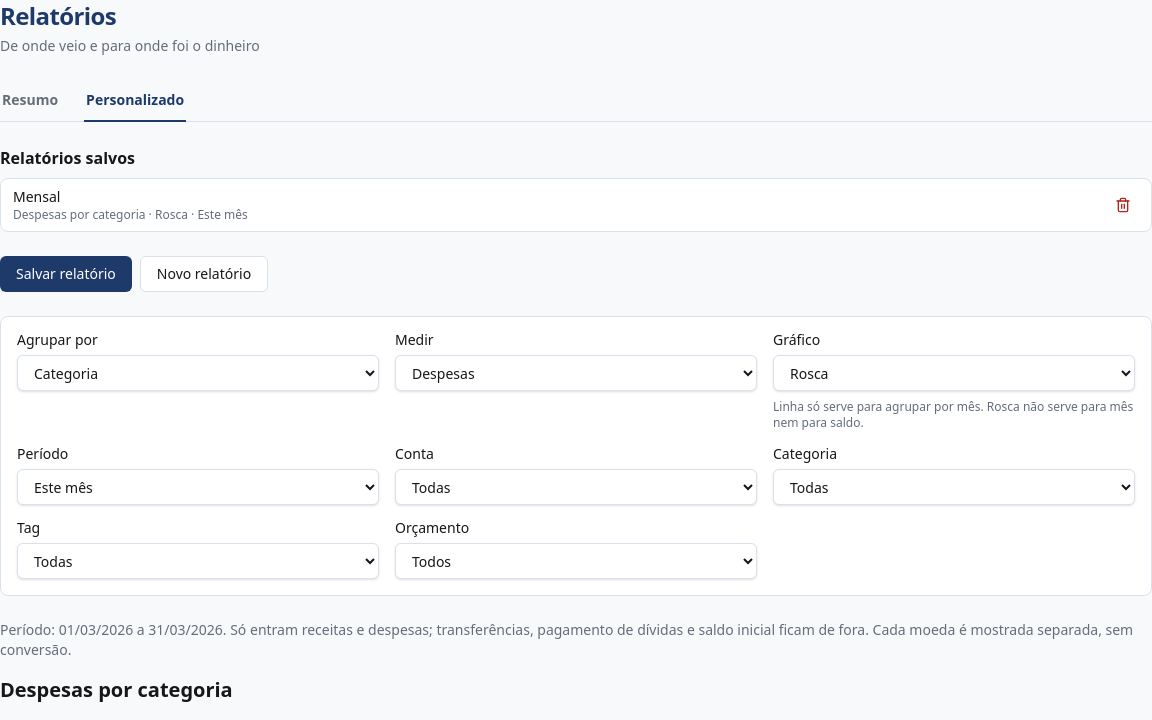
Test case: nome repetido aparece no campo e o dialogo continua aberto
Check: the button with aria-label "Abrir Mensal" is shown, box [13,187,1099,223]
Click the button "Salvar relatório" at point(66, 274), box [0,256,132,292]
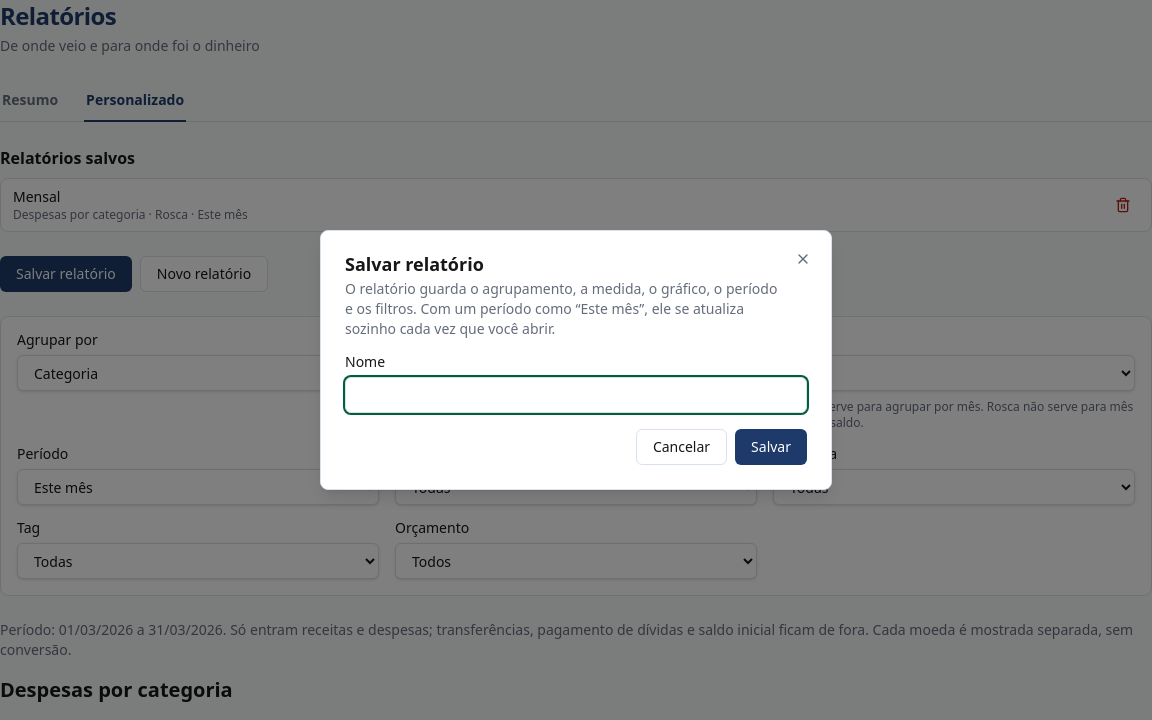
Type "mensal" into the field labelled "Nome" at point(576, 395), box [345,377,807,413]
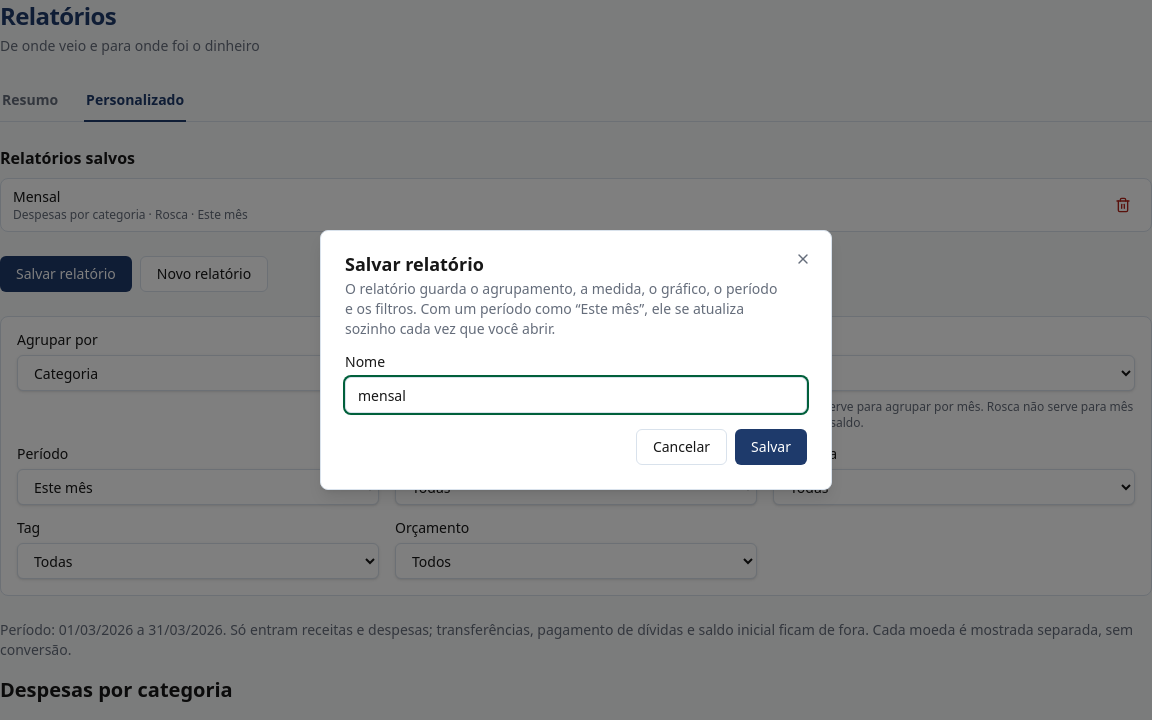
Click the button "Salvar" at point(771, 447), box [735,429,807,465]
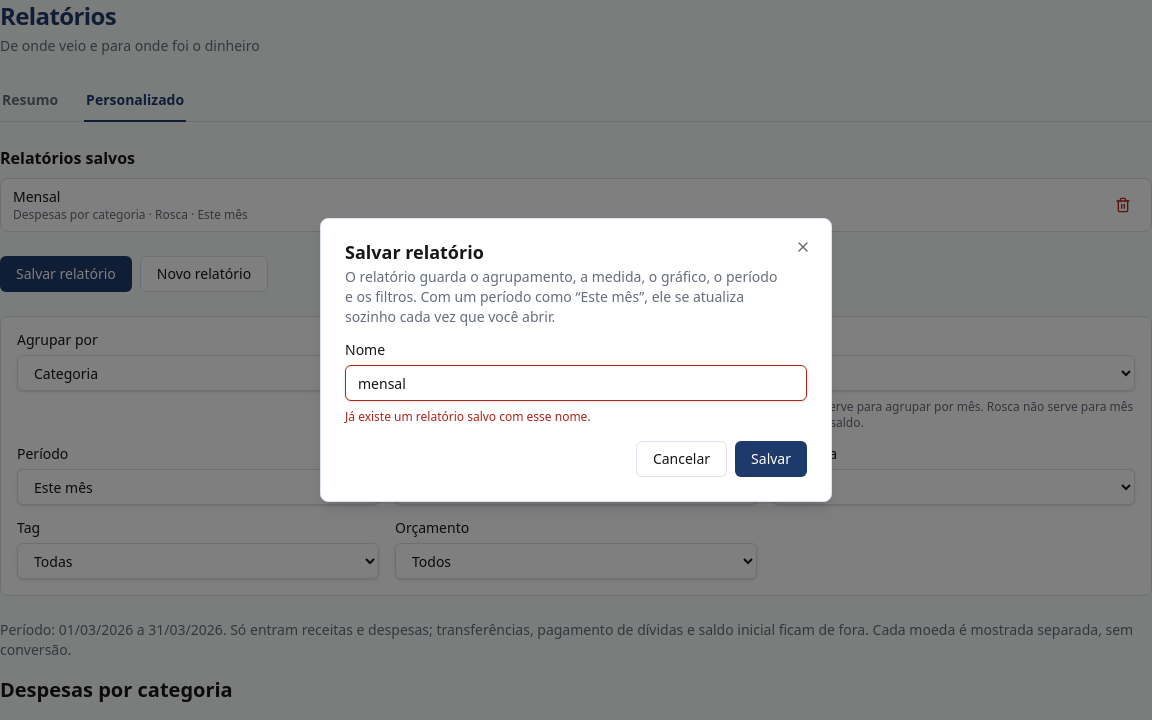
Check: the text "Já existe um relatório salvo com esse nome." is shown, box [345,408,591,425]
// Corrigir o nome limpa o erro
Type "2" into the field labelled "Nome" at point(576, 383), box [345,365,807,401]
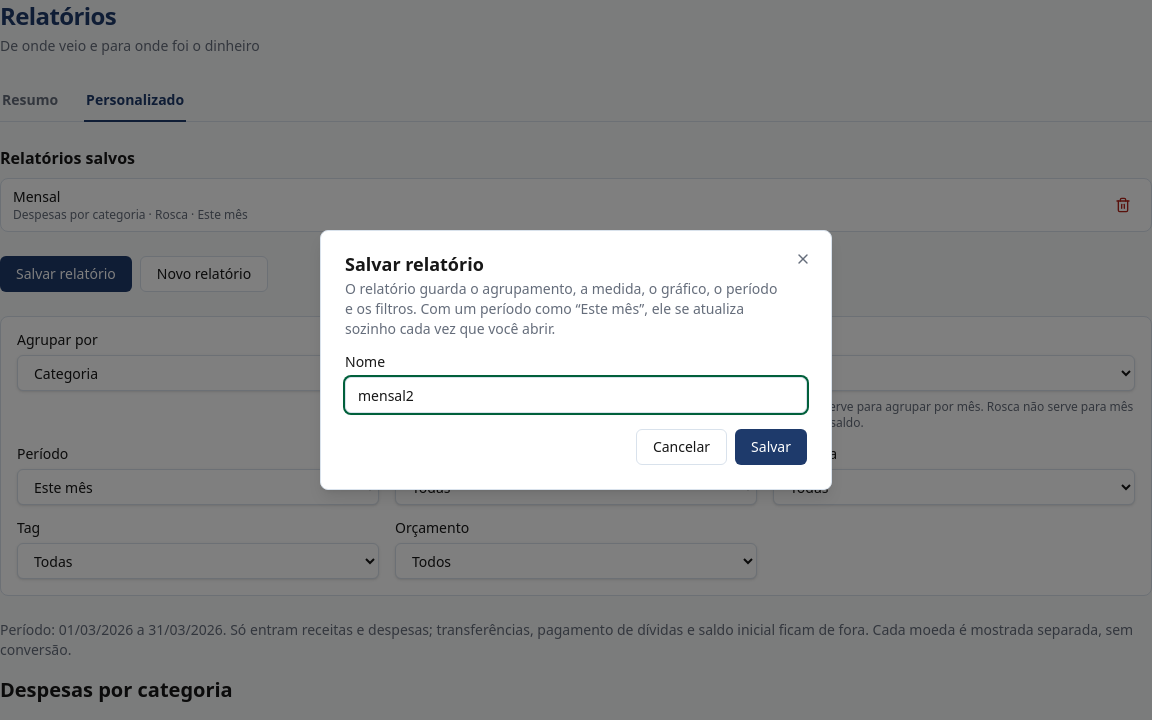
Check: the text "Já existe um relatório salvo com esse nome." is gone
